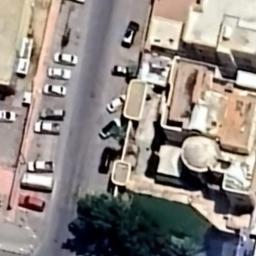SUV: (16, 193, 48, 213), (36, 107, 68, 122)
pickup: (28, 121, 66, 136), (25, 158, 59, 174)
sedan: (120, 20, 140, 50), (110, 62, 138, 82), (97, 117, 120, 141), (38, 81, 70, 98), (96, 144, 112, 176), (45, 64, 73, 82), (106, 93, 127, 116), (52, 50, 80, 66), (0, 108, 20, 123)
truck: (19, 171, 56, 193)
